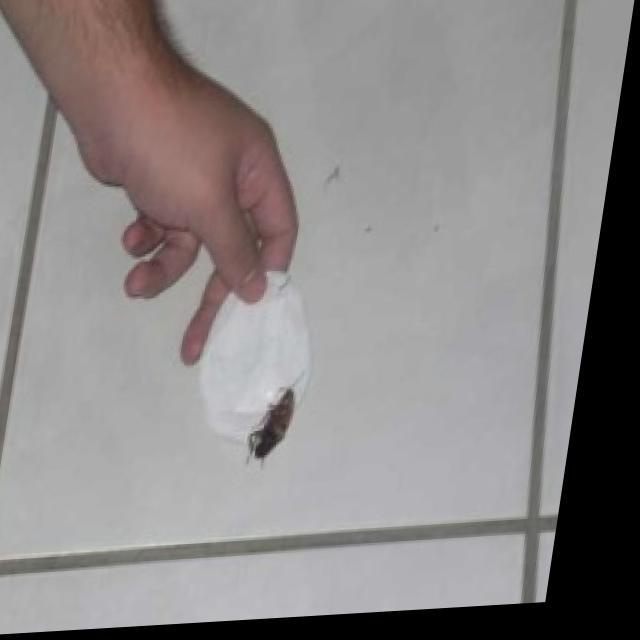cockroach: (241, 385, 299, 468)
